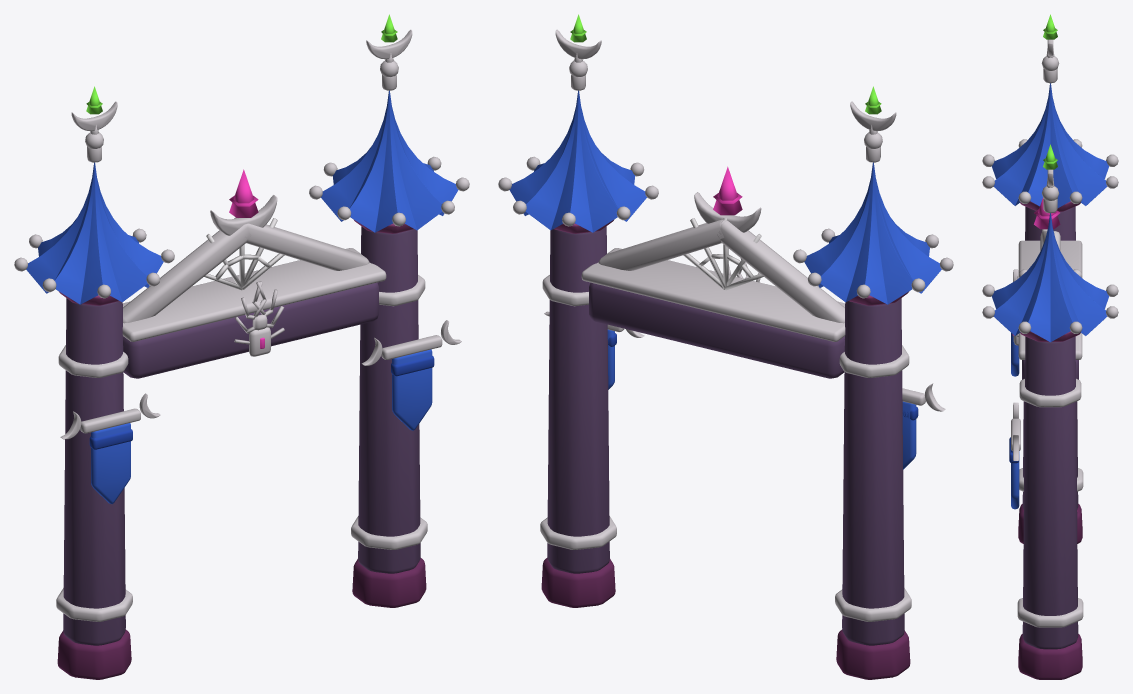
Rendered from WallGate.glb.
3 views of the same model, side by side, from view 1: azimuth 30°, elevation 25°; view 2: azimuth 150°, elevation 25°; view 3: azimuth 270°, elevation 25° (orthographic). The views are drawn at different scales.
Visible parts, largest first — view 1: WallGate; view 2: WallGate; view 3: WallGate.
Boxes of the visible parts, bbox=[...] form: WallGate: bbox=[14, 14, 469, 679]; WallGate: bbox=[498, 14, 953, 679]; WallGate: bbox=[982, 14, 1118, 679].
Bounding box in the file's own units: 2.65 × 3.46 × 0.8161.
